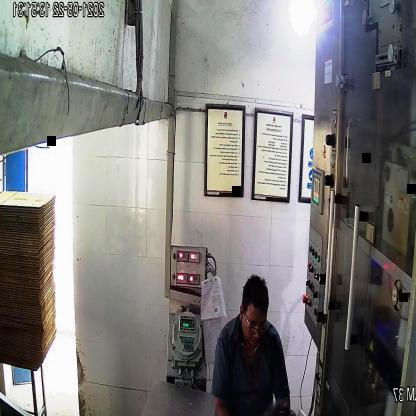goggles: (244, 315, 268, 340)
